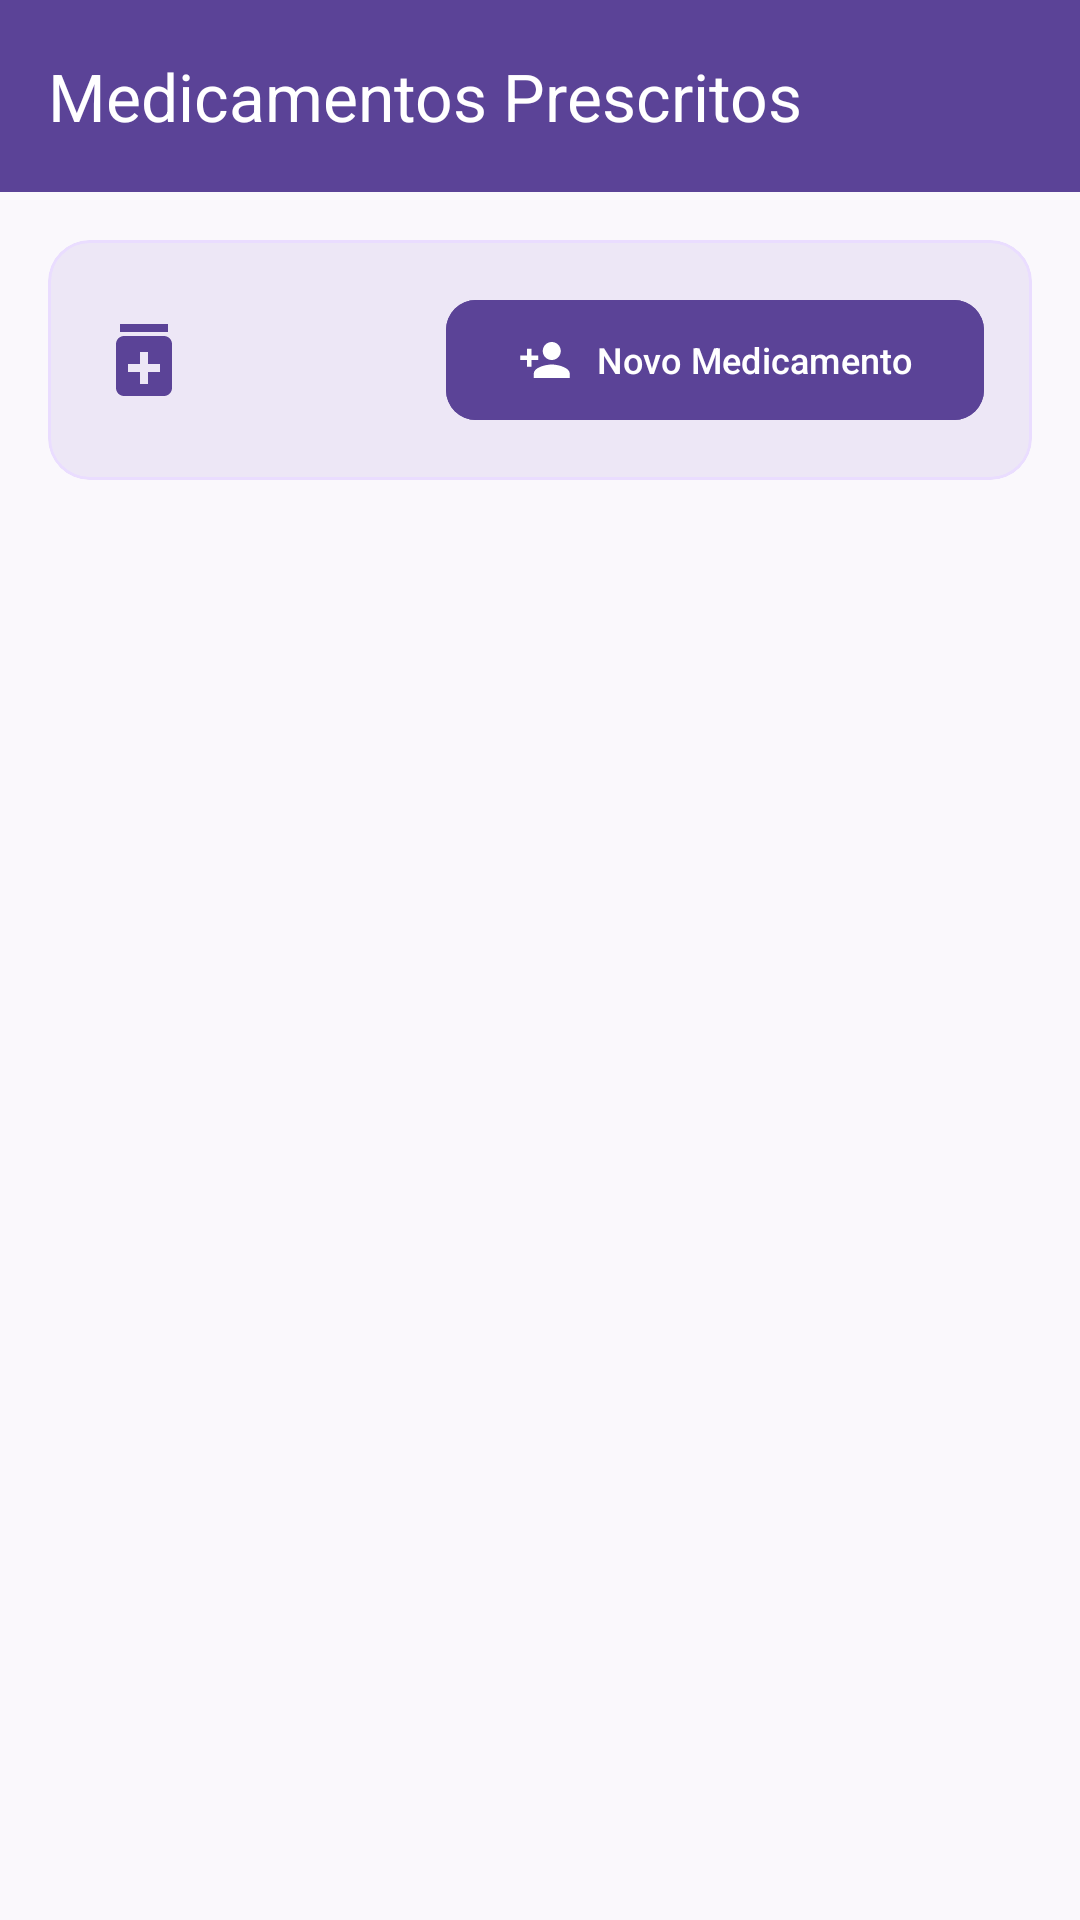

Where to tap for icons on this 1080*1920 app screen, as [x,y]:
Ícone de Medicamento: [144,360]
